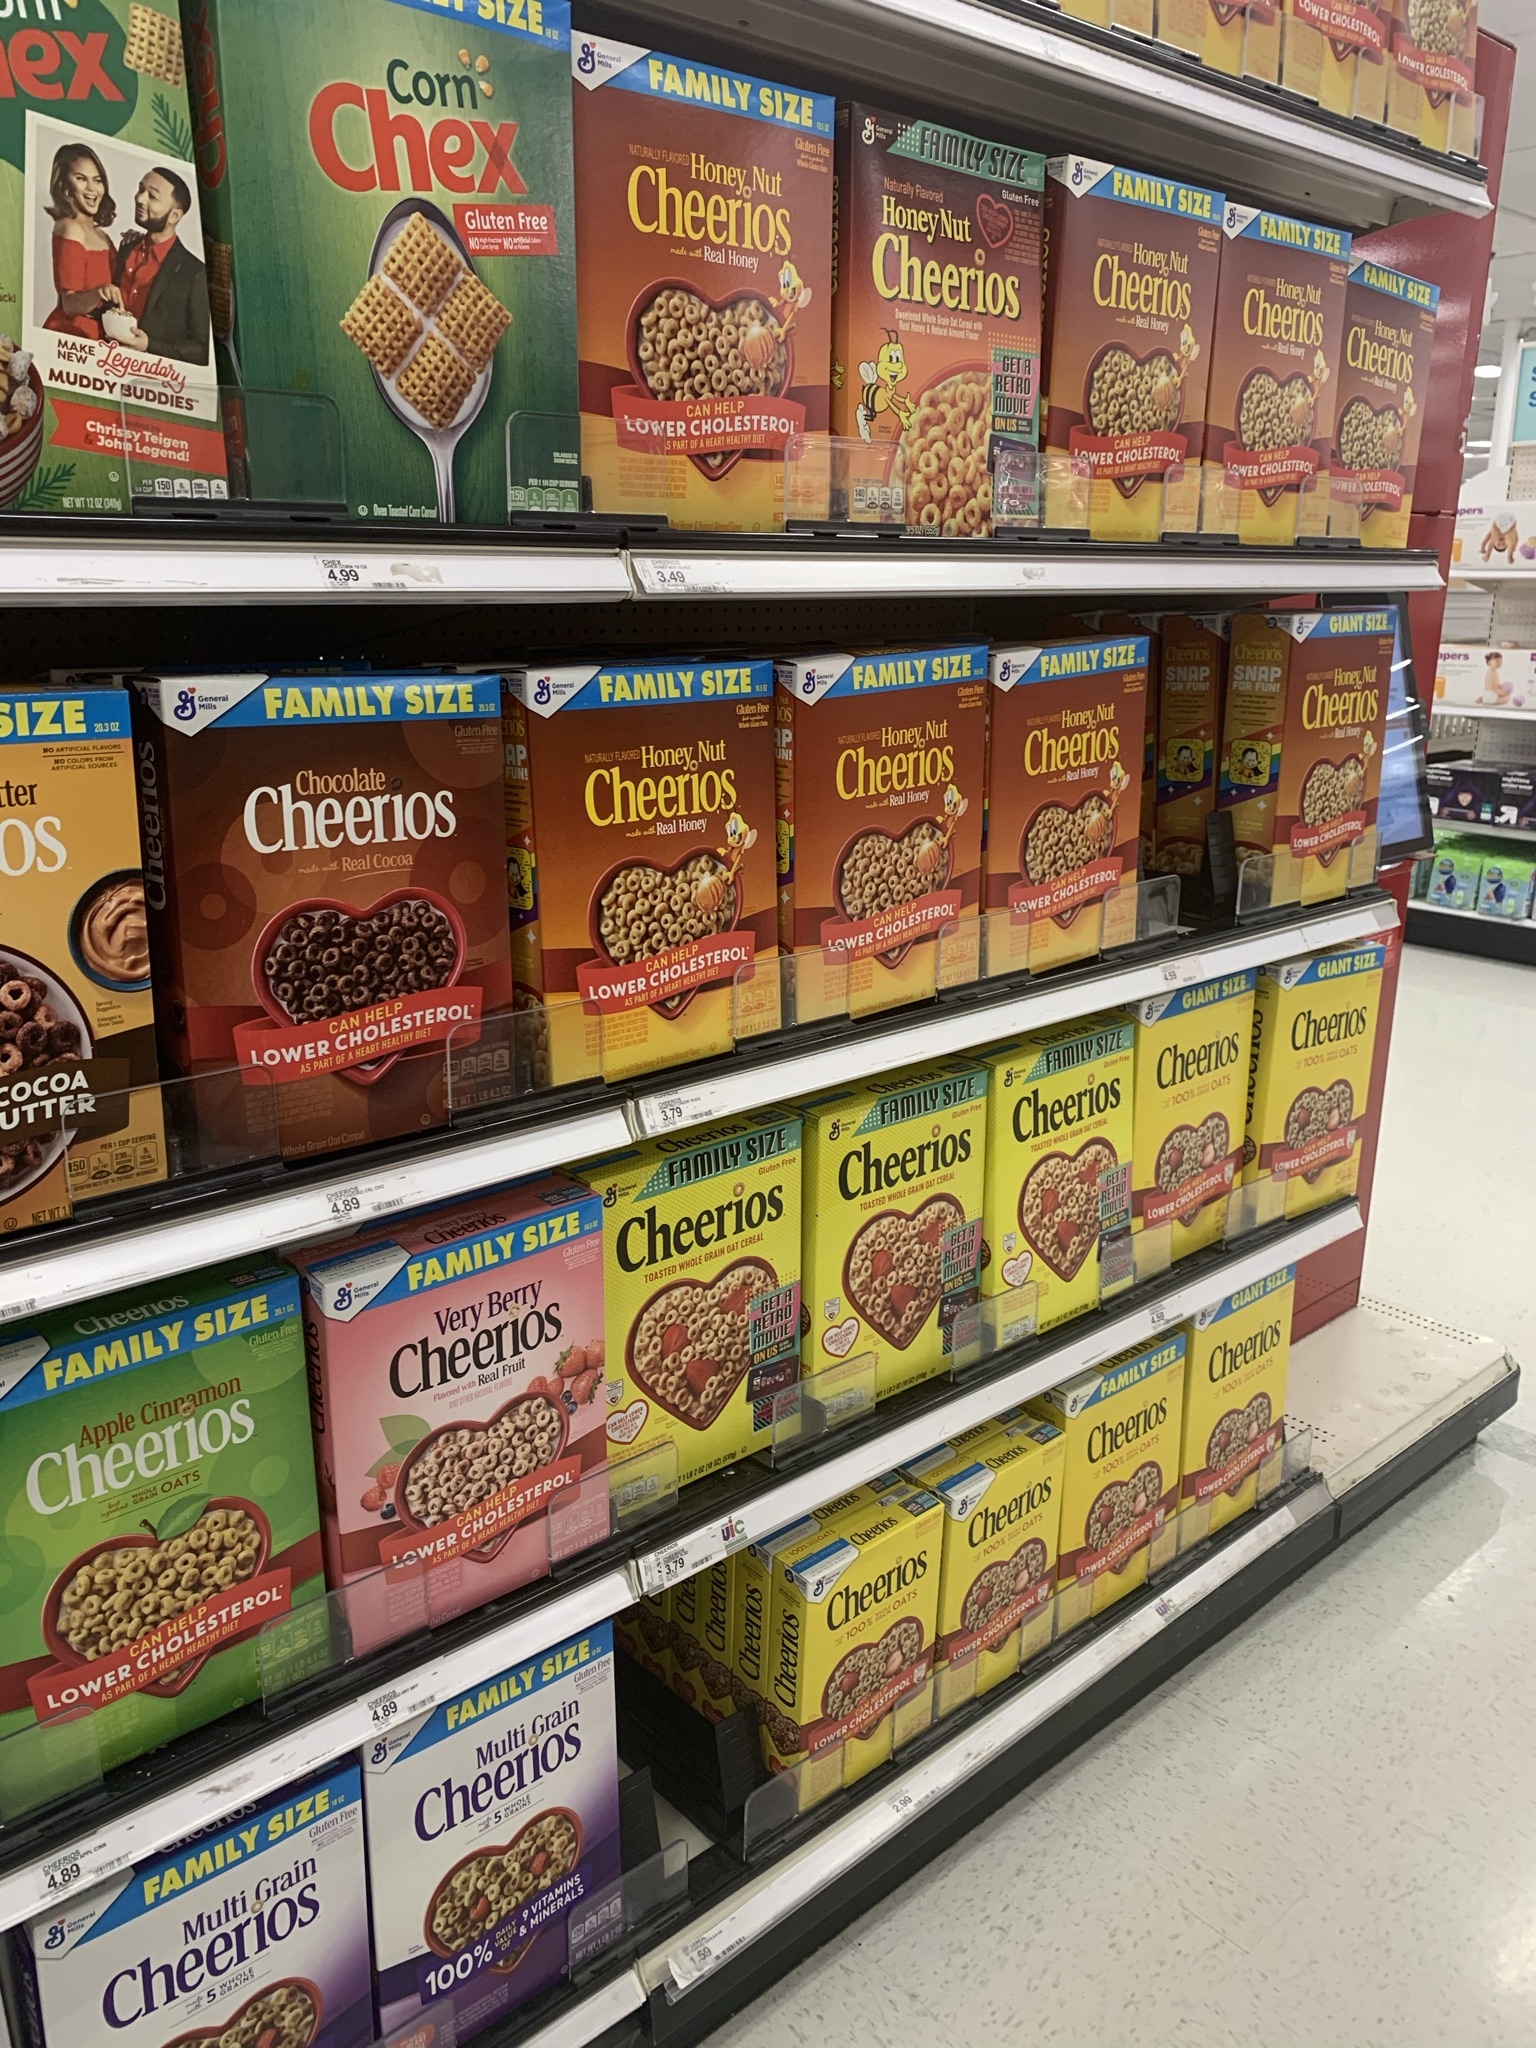cereal: (210, 2, 578, 535), (165, 674, 524, 1161), (3, 1288, 316, 1785), (566, 32, 837, 548), (319, 1208, 618, 1672), (18, 1751, 363, 2048), (386, 1617, 615, 2048), (828, 97, 1046, 542), (531, 672, 774, 1066), (2, 18, 176, 527), (587, 1143, 816, 1527), (787, 669, 979, 1034), (779, 1077, 987, 1405), (1065, 147, 1204, 572), (991, 632, 1158, 977), (965, 1039, 1131, 1330), (1217, 190, 1342, 560), (786, 1540, 944, 1827), (1258, 606, 1397, 910), (1128, 972, 1250, 1285), (1183, 1305, 1309, 1561), (1058, 1374, 1179, 1640), (933, 1458, 1062, 1706), (1263, 948, 1376, 1230), (1338, 244, 1431, 574)
